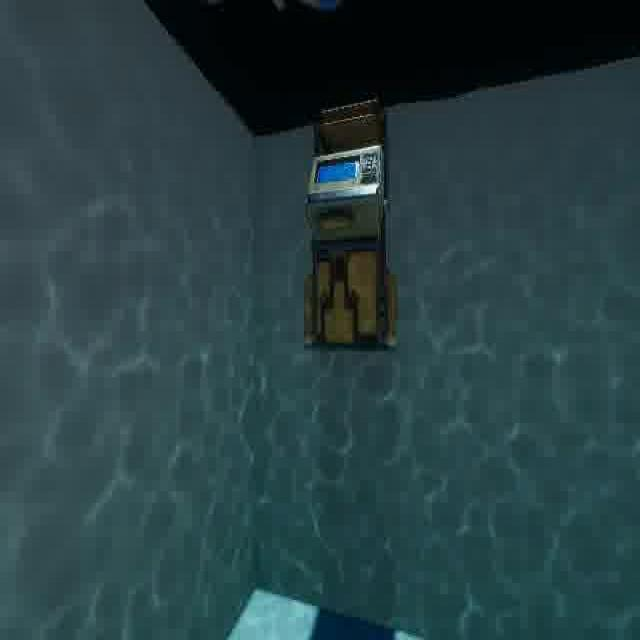Control Panel: (293, 86, 406, 361)
